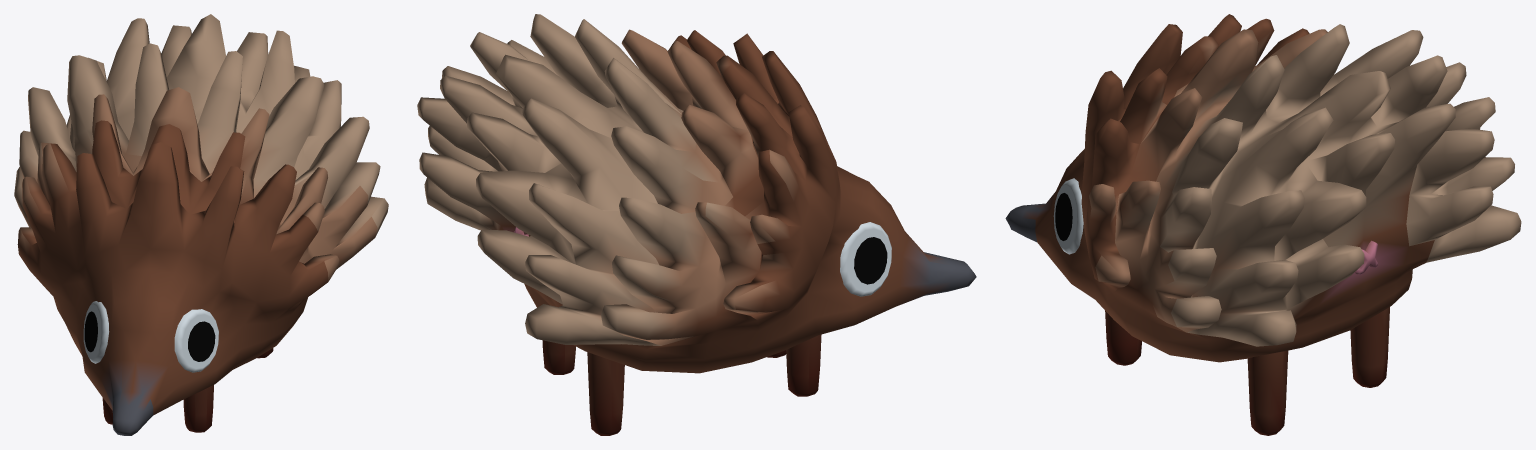
File: Echidna.glb
The picture shows the model from 3 angles, left to right: view 1: azimuth 30°, elevation 25°; view 2: azimuth 150°, elevation 25°; view 3: azimuth 270°, elevation 25°; orthographic projection. The views are drawn at different scales.
Parts seen in each view (by area): view 1: 44; view 2: 44; view 3: 44.
Boxes of the visible parts, <box> form: 44: <box>14,14,388,435</box>; 44: <box>417,14,976,435</box>; 44: <box>1005,14,1521,435</box>.
Size of the model in its own units: 0.8377 by 0.6829 by 0.88.
